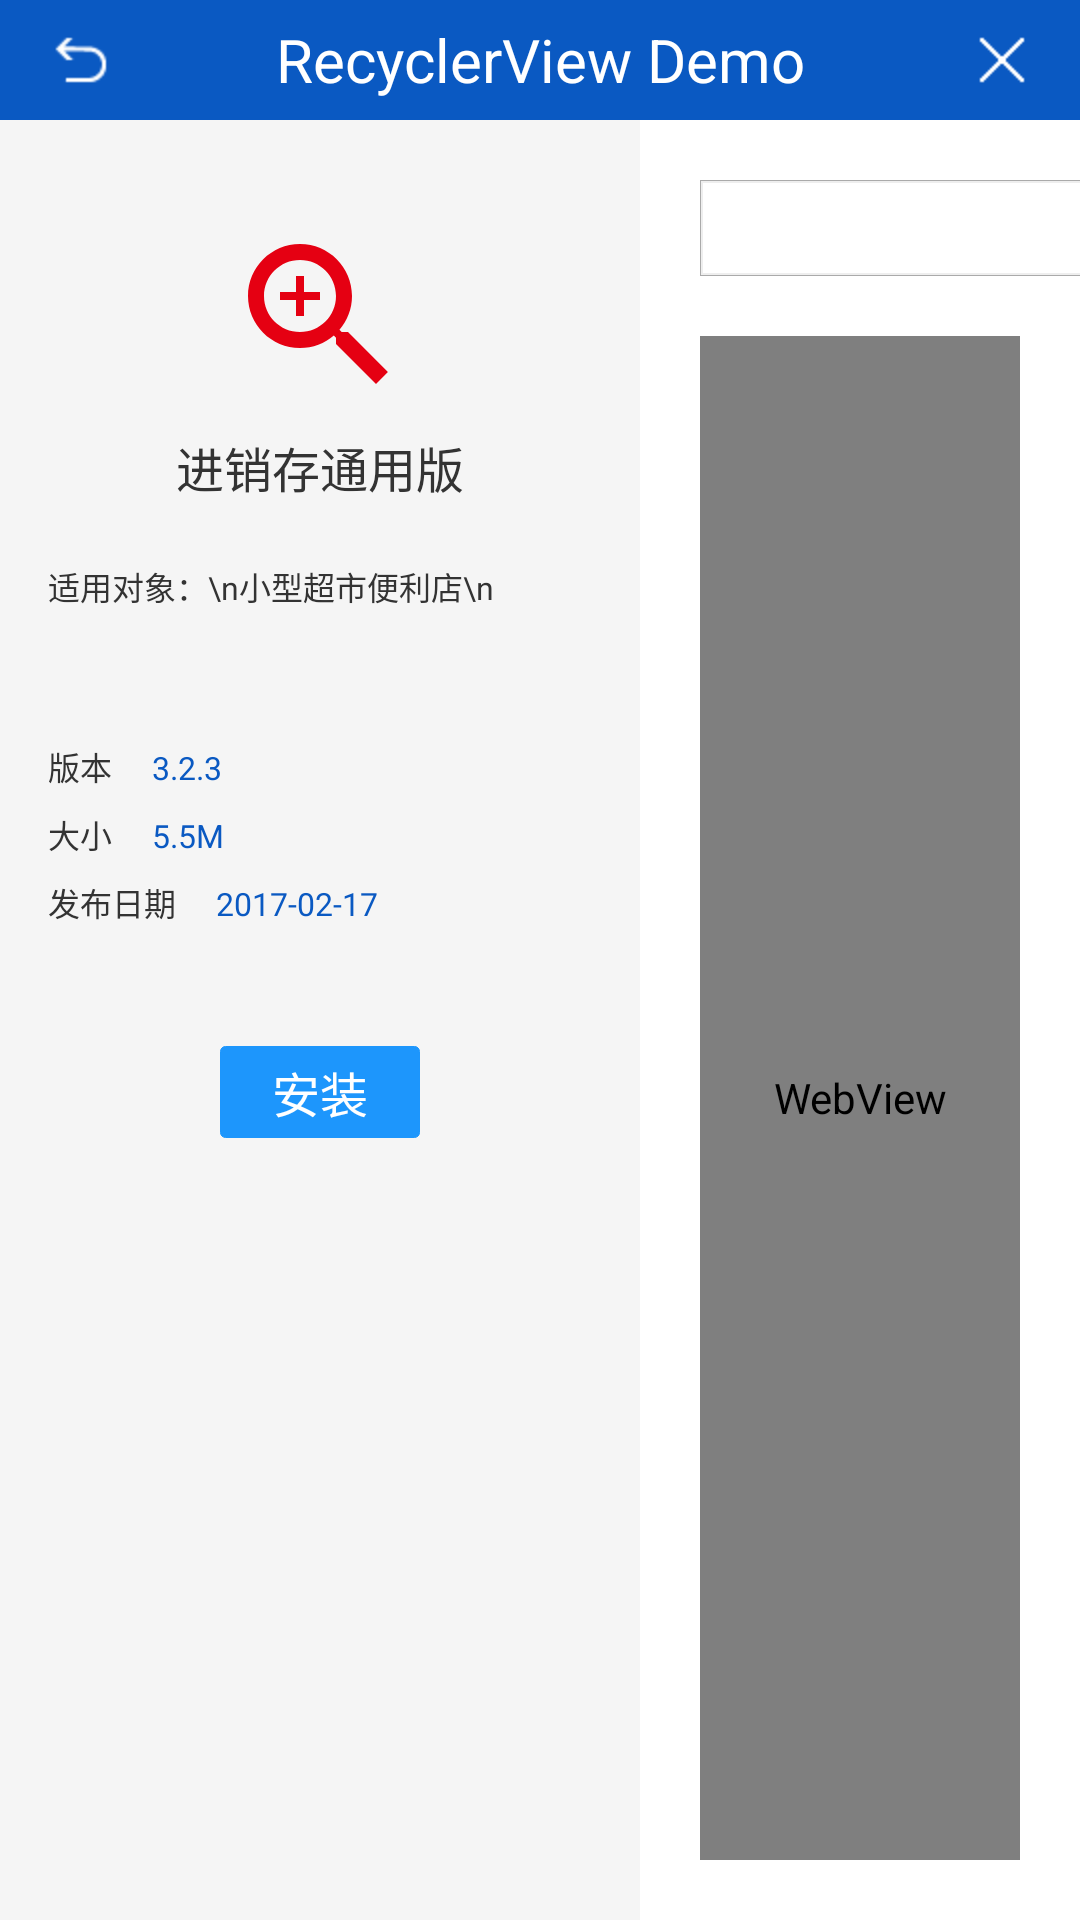

Icon click points for this 1080x1920 phone screenshot, format (x=x, y=y):
back: (x=81, y=60)
close: (x=1002, y=60)
